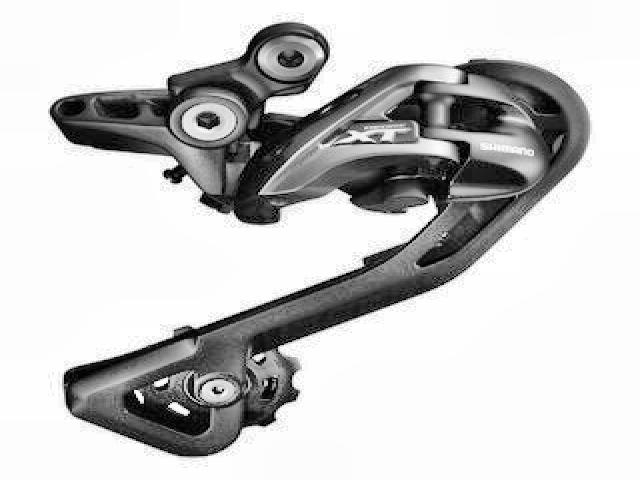rear_derailleur: (39, 21, 593, 458)
